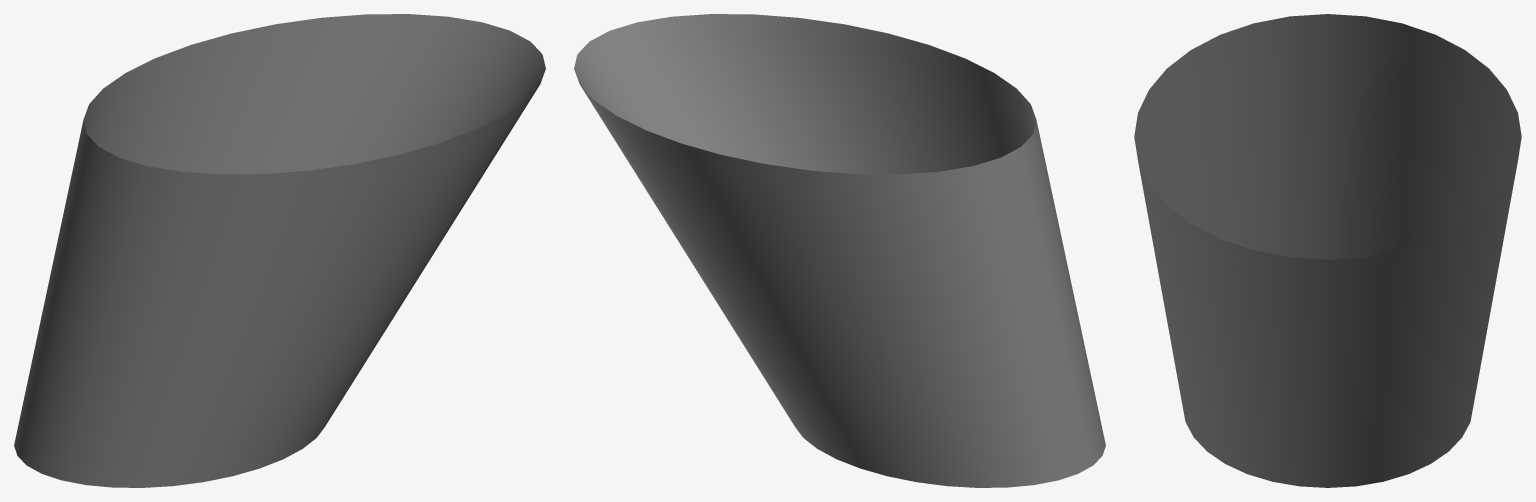
The model's file is eff_Spark02.fbx.
3 views of the same model, side by side, from view 1: azimuth 30°, elevation 25°; view 2: azimuth 150°, elevation 25°; view 3: azimuth 270°, elevation 25° (orthographic). The views are drawn at different scales.
Parts seen in each view (by area): view 1: eff_Spark02_msh; view 2: eff_Spark02_msh; view 3: eff_Spark02_msh.
Part boxes in pixels (bbox=[...]): eff_Spark02_msh: bbox=[14, 14, 545, 487]; eff_Spark02_msh: bbox=[574, 14, 1105, 487]; eff_Spark02_msh: bbox=[1134, 14, 1521, 487].
Size of the model in its own units: 3.5 by 2 by 2.
